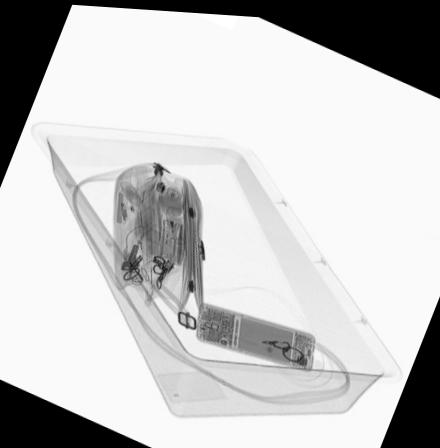Lighter: (159, 202, 192, 246)
